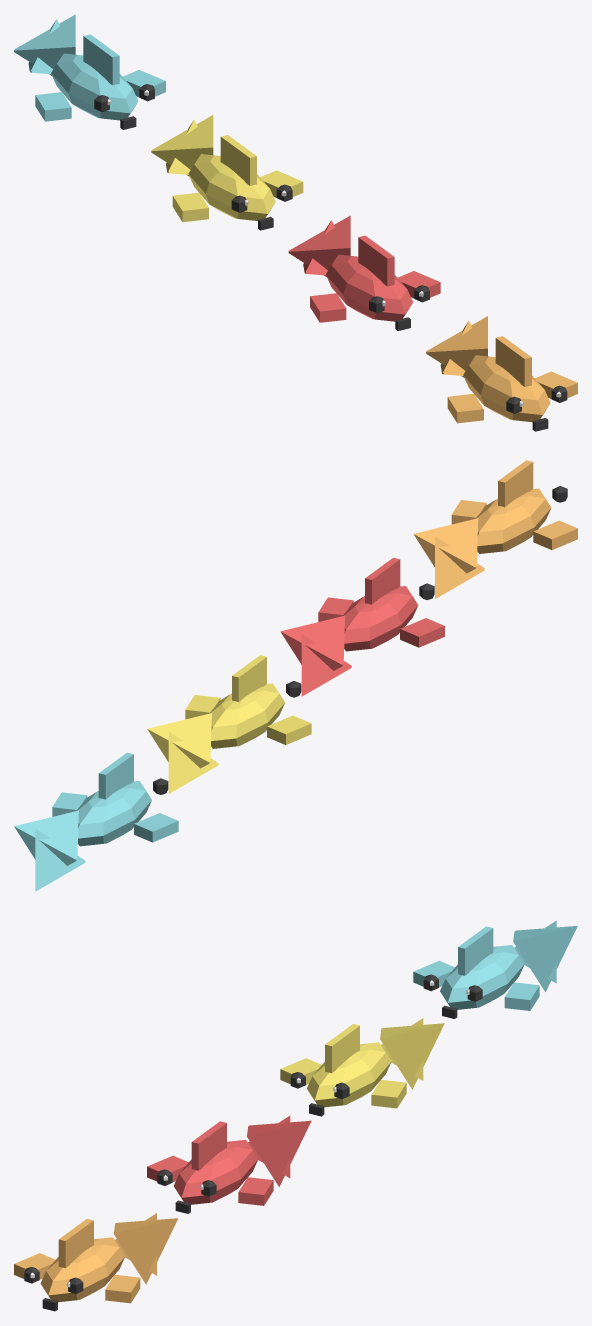
Rendered from fish.glb.
3 views of the same model, one above another, from view 1: azimuth 30°, elevation 25°; view 2: azimuth 150°, elevation 25°; view 3: azimuth 330°, elevation 25° (orthographic). The views are drawn at different scales.
Parts seen in each view (by area): view 1: Fish_C, Fish_B, Fish_D, Fish_A; view 2: Fish_B, Fish_D, Fish_A, Fish_C; view 3: Fish_B, Fish_D, Fish_C, Fish_A.
Boxes of the visible parts, x1,y1,x2,y2 form: Fish_C: (151, 115, 303, 230); Fish_B: (288, 215, 440, 330); Fish_D: (14, 14, 165, 129); Fish_A: (426, 316, 577, 431); Fish_B: (280, 557, 444, 696); Fish_D: (14, 752, 178, 891); Fish_A: (413, 460, 577, 598); Fish_C: (147, 655, 311, 793); Fish_B: (147, 1115, 311, 1213); Fish_D: (413, 920, 577, 1018); Fish_C: (280, 1018, 444, 1116); Fish_A: (14, 1213, 178, 1311).
Bounding box in the file's own units: 0.2029 × 0.1395 × 1.51.
